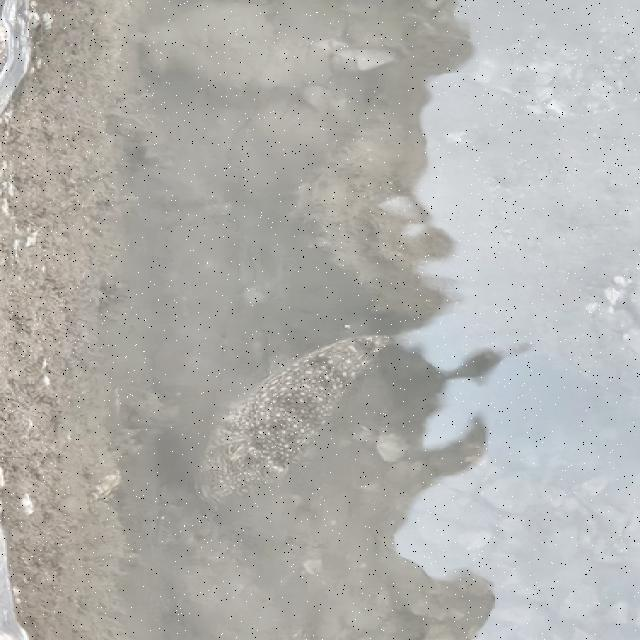Balik: (197, 336, 392, 501)
